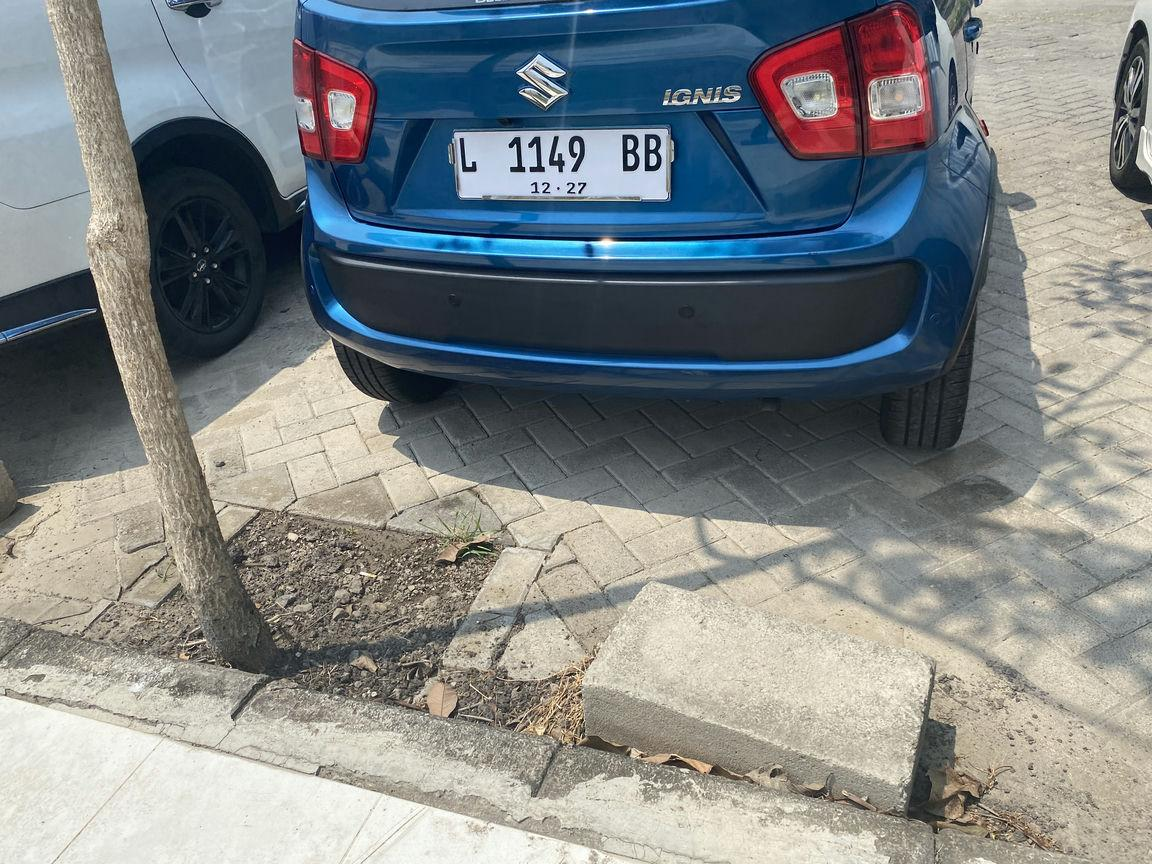plat: (450, 126, 673, 202)
